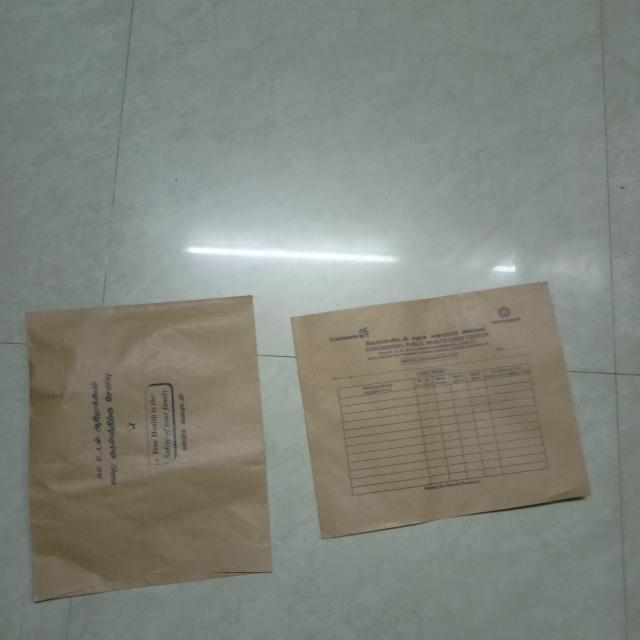box: (275, 267, 605, 553), (10, 286, 281, 618)
